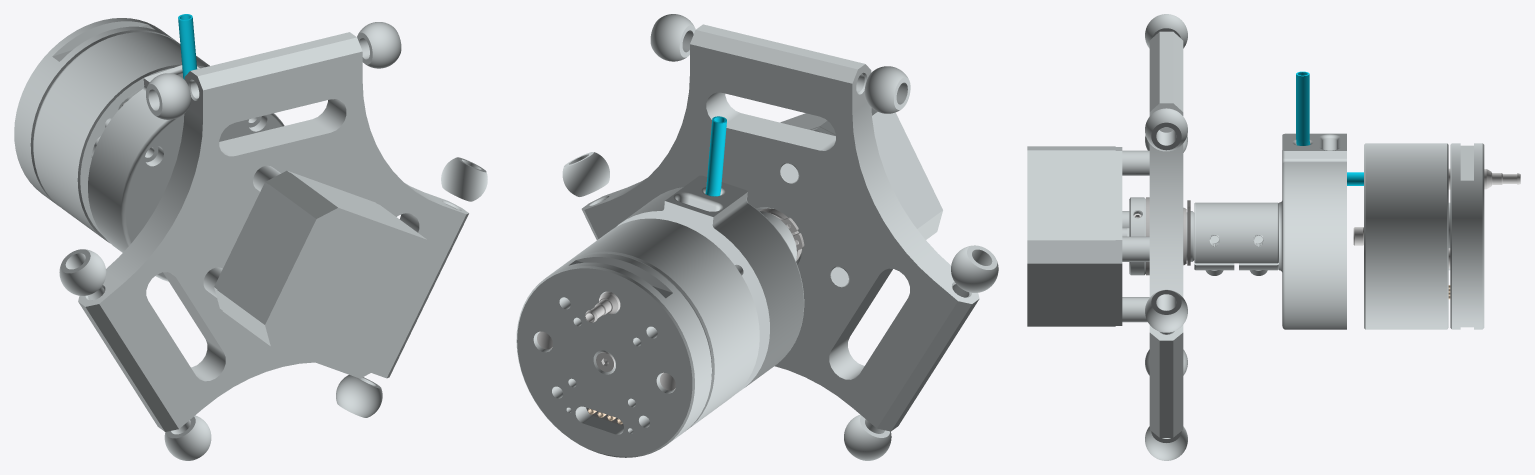
Rendered from endeffector.glb.
3 renders of one model, left to right at view 1: azimuth 30°, elevation 25°; view 2: azimuth 150°, elevation 25°; view 3: azimuth 270°, elevation 25°, orthographic. The views are drawn at different scales.
Parts seen in each view (by area): view 1: Mesh_0.001, Mesh_49, Mesh_25, Mesh_31, Mesh_26, Mesh_34, Mesh_35, Mesh_32, Mesh_37, Mesh_48, Mesh_36, Mesh_33 (+1 smaller); view 2: Mesh_0.001, Mesh_26, Mesh_25, Mesh_31, Mesh_49, Mesh_34, Mesh_35, Mesh_32, Mesh_37, Mesh_33, Mesh_30, Mesh_2; view 3: Mesh_49, Mesh_25, Mesh_31, Mesh_0.001, Mesh_26, Mesh_44, Mesh_48, Mesh_37, Mesh_32, Mesh_30, Mesh_43, Mesh_36 (+1 smaller).
Part boxes in pixels (bbox=[...]): Mesh_0.001: bbox=[78, 32, 468, 431]; Mesh_49: bbox=[217, 172, 433, 378]; Mesh_25: bbox=[33, 32, 209, 243]; Mesh_31: bbox=[88, 65, 284, 281]; Mesh_26: bbox=[14, 18, 178, 205]; Mesh_34: bbox=[59, 249, 106, 295]; Mesh_35: bbox=[146, 73, 190, 119]; Mesh_32: bbox=[357, 22, 401, 68]; Mesh_37: bbox=[441, 157, 487, 201]; Mesh_48: bbox=[203, 165, 376, 309]; Mesh_36: bbox=[336, 375, 382, 417]; Mesh_33: bbox=[164, 415, 211, 460]; Mesh_0.001: bbox=[581, 24, 979, 431]; Mesh_26: bbox=[516, 253, 711, 457]; Mesh_25: bbox=[564, 218, 759, 431]; Mesh_31: bbox=[616, 175, 804, 392]; Mesh_49: bbox=[780, 108, 942, 239]; Mesh_34: bbox=[951, 245, 998, 292]; Mesh_35: bbox=[864, 66, 910, 113]; Mesh_32: bbox=[650, 14, 695, 61]; Mesh_37: bbox=[562, 152, 609, 196]; Mesh_33: bbox=[844, 414, 891, 460]; Mesh_30: bbox=[705, 116, 726, 196]; Mesh_2: bbox=[585, 291, 620, 322]; Mesh_49: bbox=[1027, 146, 1129, 326]; Mesh_25: bbox=[1364, 143, 1448, 329]; Mesh_31: bbox=[1279, 133, 1346, 329]; Mesh_0.001: bbox=[1149, 31, 1183, 437]; Mesh_26: bbox=[1450, 143, 1484, 329]; Mesh_44: bbox=[1194, 202, 1278, 270]; Mesh_48: bbox=[1115, 147, 1149, 325]; Mesh_37: bbox=[1145, 289, 1187, 332]; Mesh_32: bbox=[1145, 108, 1187, 151]; Mesh_30: bbox=[1296, 71, 1363, 185]; Mesh_43: bbox=[1129, 197, 1194, 275]; Mesh_36: bbox=[1145, 426, 1187, 460].
Size of the model in its own units: 13.22 by 11.6 by 14.54.
